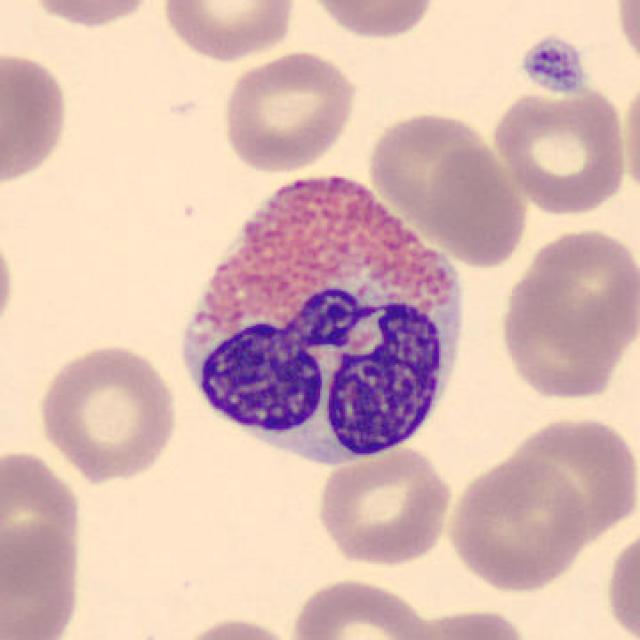Eosinophil: (160, 153, 478, 480)
Platelets: (518, 32, 590, 97)
RBC: (496, 222, 638, 384), (34, 340, 181, 483), (443, 452, 590, 594), (489, 81, 629, 217), (498, 412, 639, 545), (313, 441, 457, 569), (219, 48, 361, 174), (364, 107, 498, 224), (423, 136, 532, 270), (0, 444, 87, 598), (0, 516, 85, 640), (0, 46, 73, 190), (286, 575, 436, 640), (156, 0, 298, 63), (300, 0, 440, 42), (602, 522, 640, 640), (405, 606, 535, 640), (20, 0, 160, 30), (174, 613, 300, 640), (618, 70, 640, 202), (610, 0, 640, 78), (0, 220, 18, 346)
